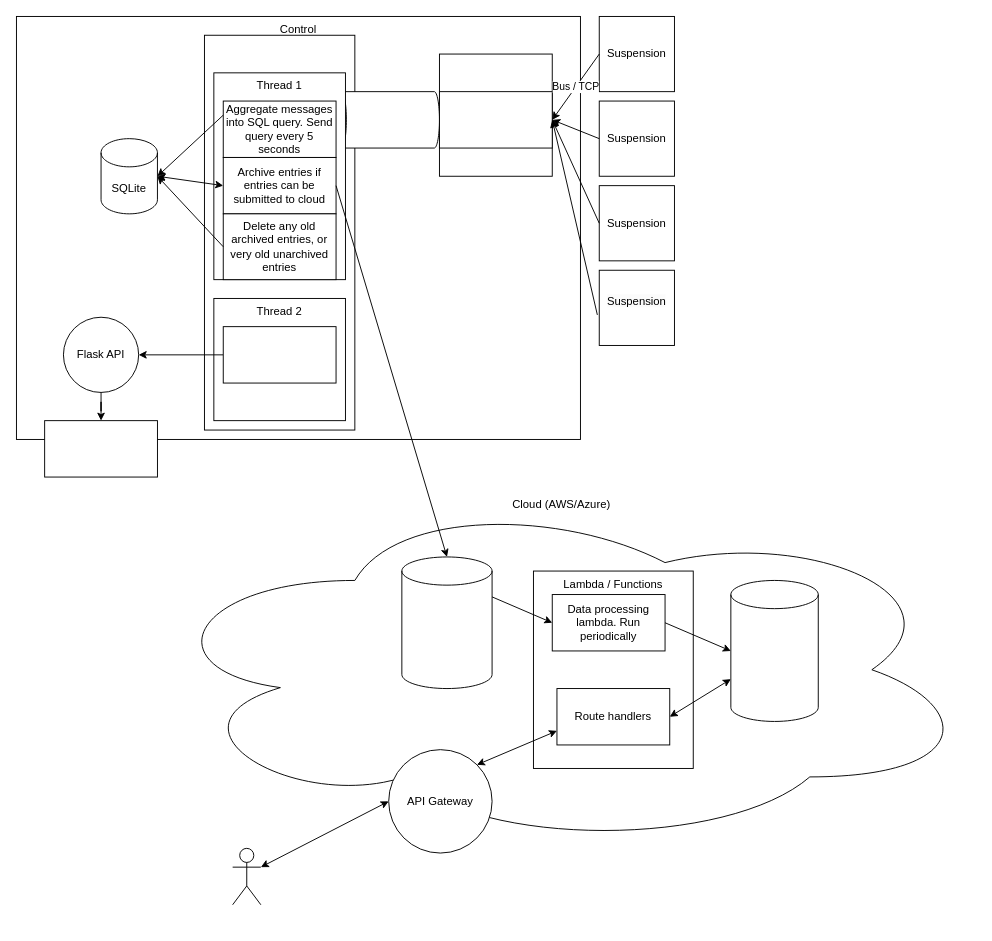
This 992x941 diagram has some shape labels left out. The box of each missing label's shape, as (x1, y1, x2, y2) in pixels:
Client: (232, 847, 261, 905)
Listener Thread: (439, 91, 552, 148)
Message queue: (335, 91, 439, 148)
Process 1: (439, 53, 552, 176)
Process 2: (204, 34, 355, 430)
Send data to diagnostics through web sockets: (222, 326, 336, 383)
Simple Diagnostic Front end: (44, 420, 157, 477)
Synapse/ Redshift for processed data: (730, 580, 818, 721)
Synapse/ Redshift for Raw Data: (401, 556, 492, 689)
